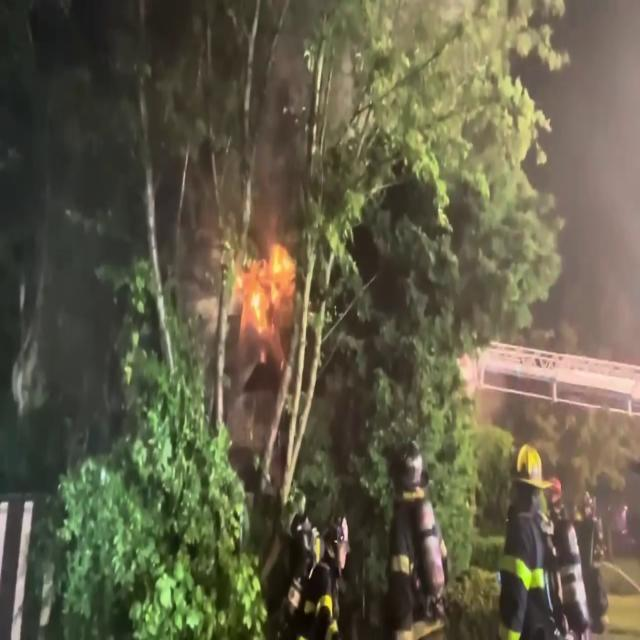Fire: (230, 223, 298, 333)
